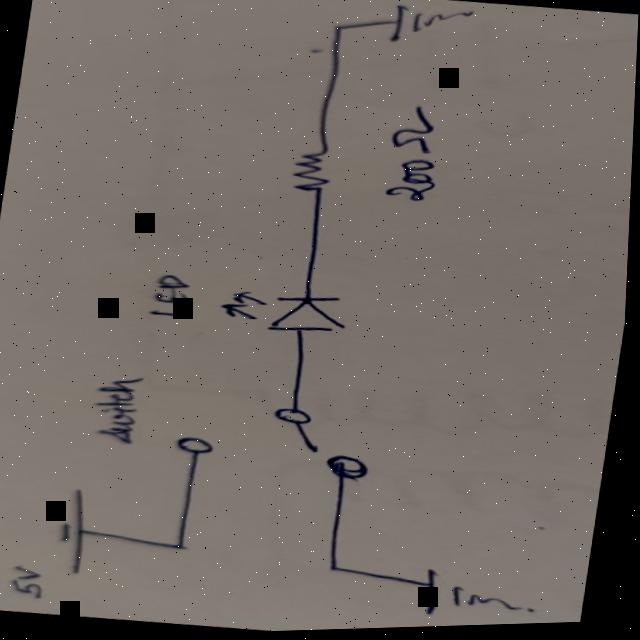diode: (219, 287, 354, 341)
ground: (420, 569, 547, 626), (385, 4, 471, 51)
junction: (320, 562, 357, 577), (165, 540, 198, 554), (324, 24, 357, 36)
resistor: (286, 149, 336, 197)
source: (47, 486, 96, 573)
switch: (167, 394, 386, 488)
text: (381, 104, 447, 207), (85, 376, 146, 443), (142, 272, 195, 320), (3, 560, 52, 601)
